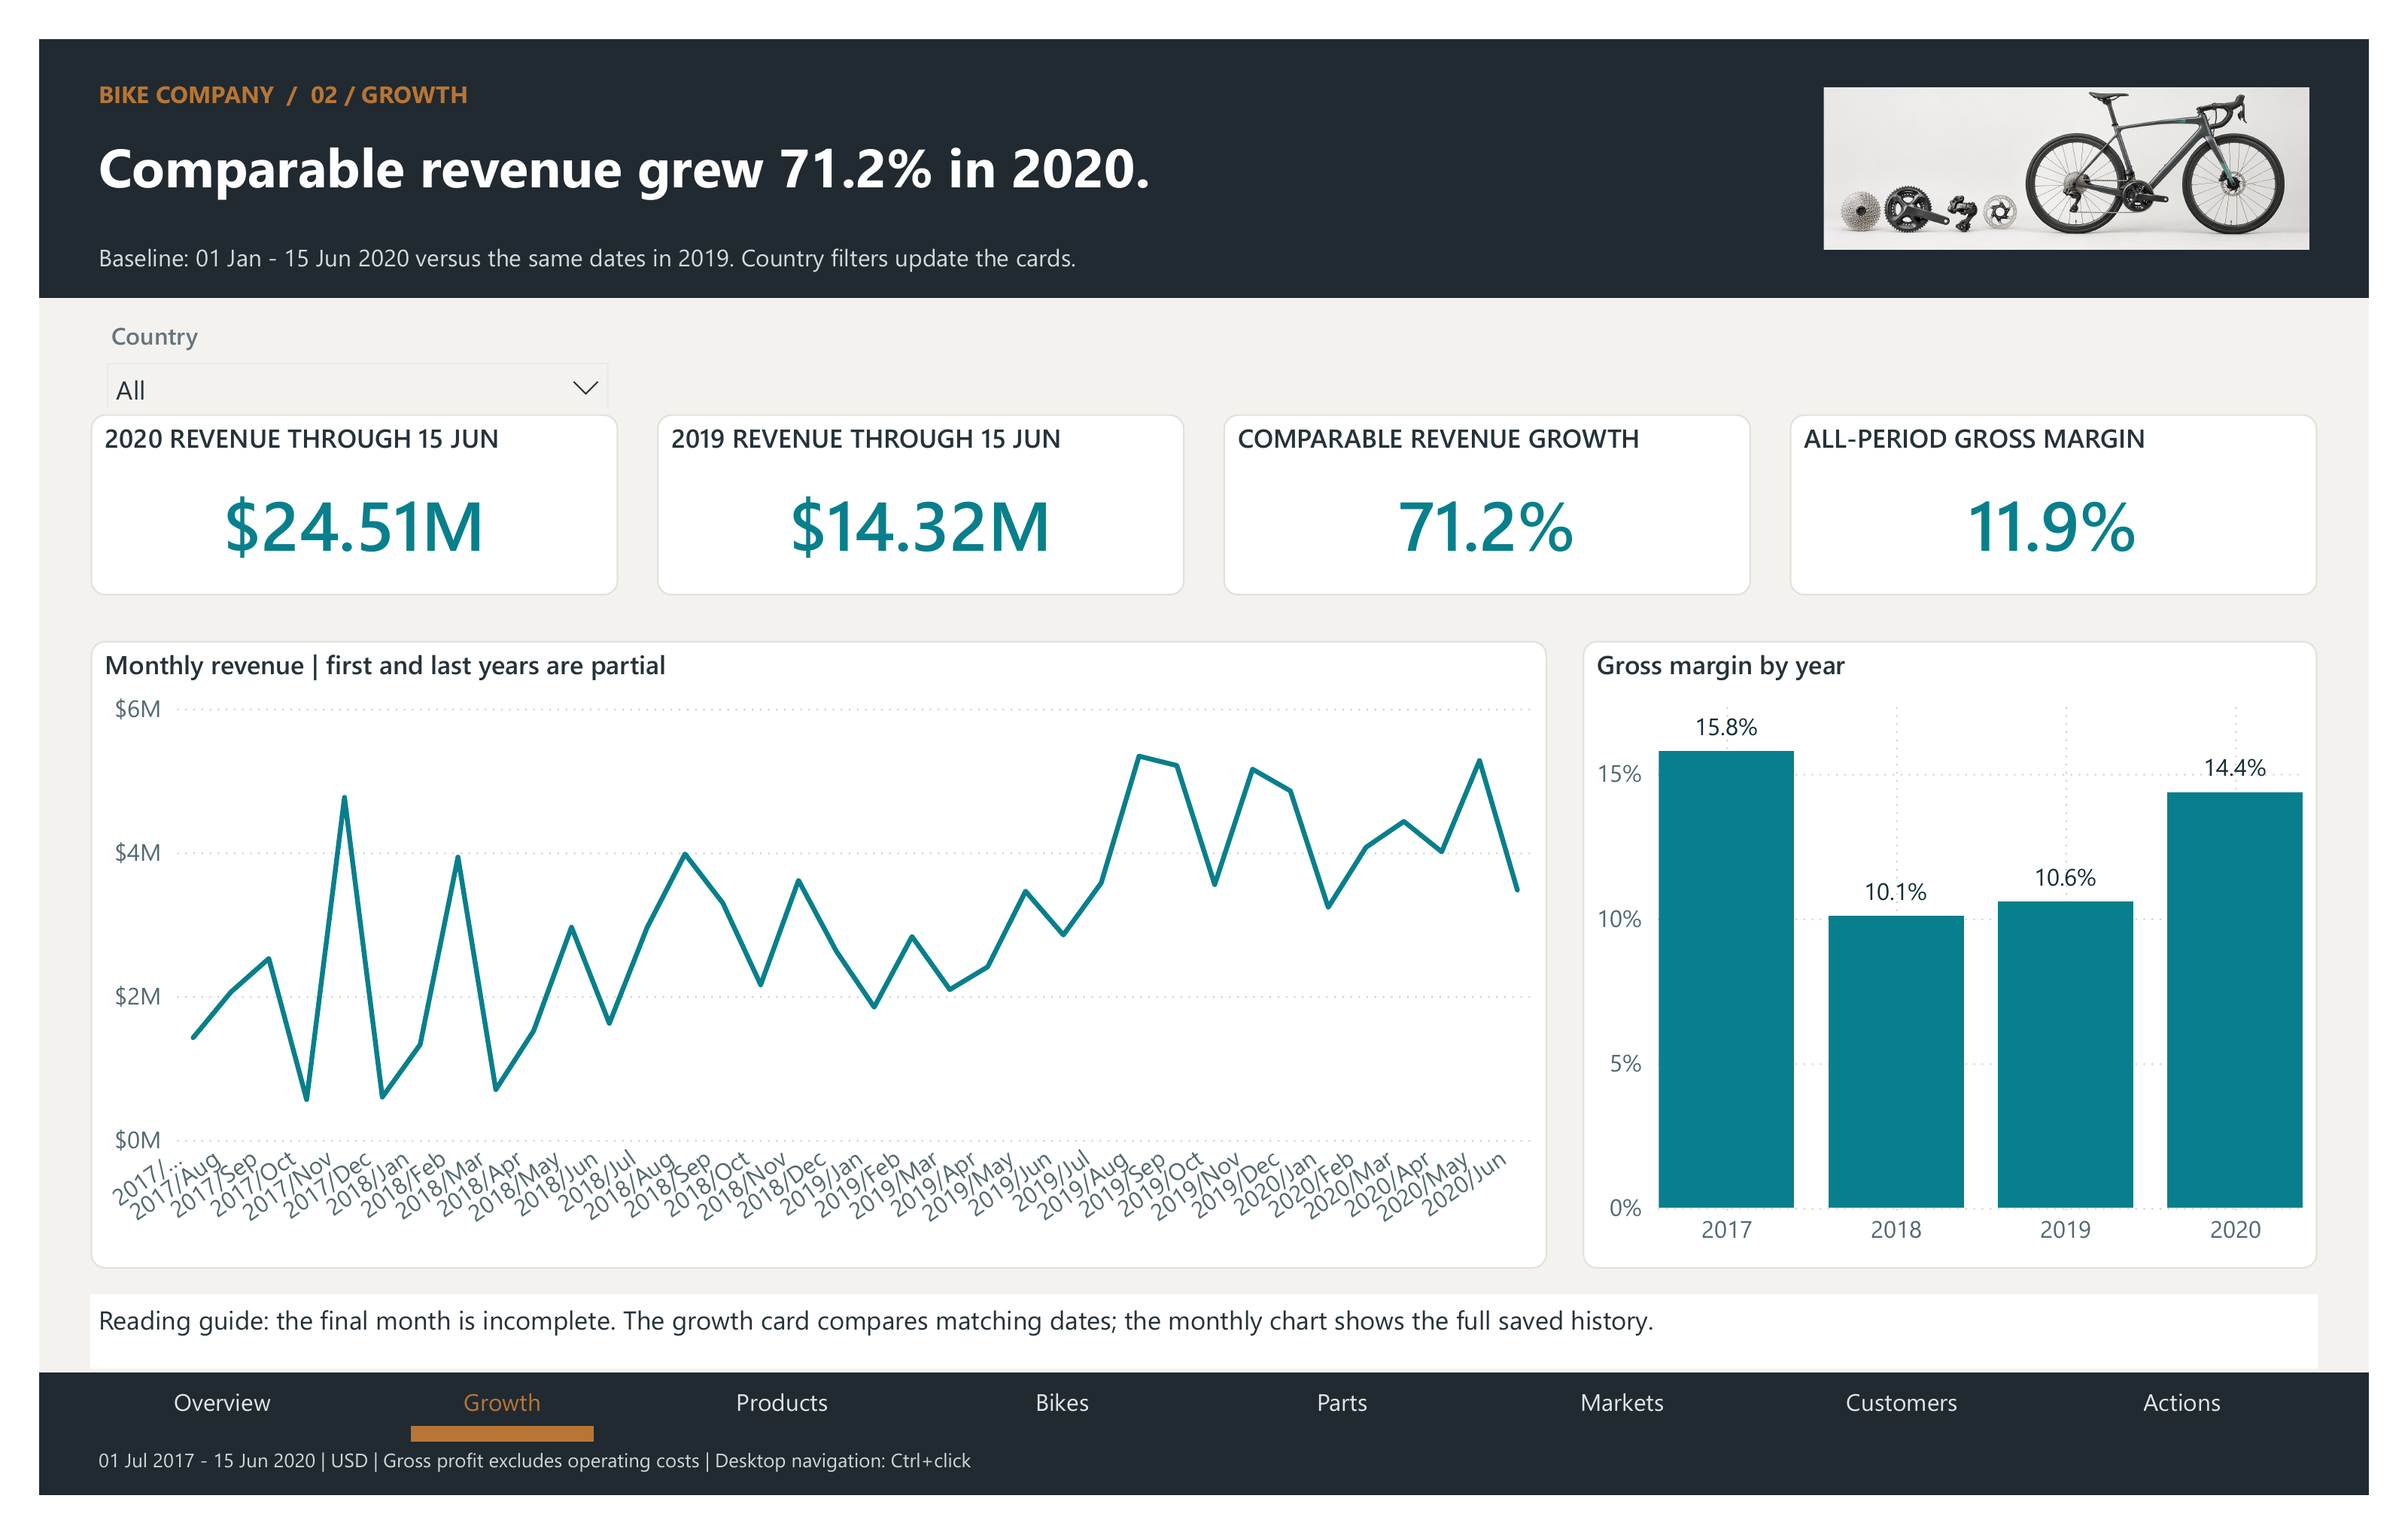

This screenshot's page, from the dashboard's own definition file:
{"tool":"powerbi","page":{"name":"02 Growth","canvas":[1440,900],"ordinal":2},"visuals":[{"type":"actionButton","box":[32,827,163,30]},{"type":"actionButton","box":[205,827,163,30]},{"type":"actionButton","box":[378,827,163,30]},{"type":"actionButton","box":[551,827,163,30]},{"type":"actionButton","box":[724,827,163,30]},{"type":"actionButton","box":[897,827,163,30]},{"type":"actionButton","box":[1070,827,163,30]},{"type":"actionButton","box":[1243,827,163,30]},{"type":"textbox","box":[403,857,113,3]},{"type":"textbox","box":[0,0,1440,160],"z":1},{"type":"textbox","box":[0,824,1440,76],"z":1},{"type":"image","box":[1098,14,310,132],"z":2},{"type":"textbox","box":[32,18,850,34],"z":15000},{"type":"textbox","box":[32,51,1040,64],"z":16000},{"type":"textbox","box":[32,119,1040,40],"z":17000},{"type":"textbox","box":[32,861,1376,39],"z":18000},{"type":"slicer","fields":{"Values":["Sales Territory.Country"]},"box":[32,168,330,60],"z":20000},{"type":"card","title":"2020 REVENUE THROUGH 15 JUN","fields":{"Values":["Measure.Latest YTD Revenue"]},"box":[32,232,326,112],"z":21000},{"type":"card","title":"2019 REVENUE THROUGH 15 JUN","fields":{"Values":["Measure.Prior Comparable Revenue"]},"box":[382,232,326,112],"z":22000},{"type":"card","title":"COMPARABLE REVENUE GROWTH","fields":{"Values":["Measure.Comparable Revenue Growth"]},"box":[732,232,326,112],"z":23000},{"type":"card","title":"ALL-PERIOD GROSS MARGIN","fields":{"Values":["Measure.Profit Margin"]},"box":[1082,232,326,112],"z":24000},{"type":"lineChart","title":"Monthly revenue | first and last years are partial","fields":{"Category":["Order Date.Month Start"],"Y":["Measure.Revenue"]},"box":[32,372,900,388],"z":25000},{"type":"clusteredColumnChart","title":"Gross margin by year","fields":{"Category":["Order Date.Year"],"Y":["Measure.Profit Margin"]},"box":[954,372,454,388],"z":26000},{"type":"textbox","box":[32,776,1376,46],"z":27000}]}

Visuals, with their boxes in screenshot pixels (x1, y1, x2, y2), scaled from the page's 1440x900 canvas onto the 2408x1535 screenshot:
actionButton: 53 1411 326 1462
actionButton: 343 1411 616 1462
actionButton: 632 1411 905 1462
actionButton: 921 1411 1194 1462
actionButton: 1211 1411 1483 1462
actionButton: 1500 1411 1773 1462
actionButton: 1789 1411 2062 1462
actionButton: 2078 1411 2351 1462
textbox: 674 1462 863 1467
textbox: 0 0 2407 273
textbox: 0 1406 2407 1534
image: 1836 24 2355 249
textbox: 53 31 1475 89
textbox: 53 87 1792 196
textbox: 53 203 1792 271
textbox: 53 1469 2355 1534
slicer - Sales Territory.Country: 53 287 605 389
"2020 REVENUE THROUGH 15 JUN" card: 53 396 599 587
"2019 REVENUE THROUGH 15 JUN" card: 639 396 1184 587
"COMPARABLE REVENUE GROWTH" card: 1224 396 1769 587
"ALL-PERIOD GROSS MARGIN" card: 1809 396 2355 587
"Monthly revenue | first and last years are partial" lineChart: 53 634 1558 1296
"Gross margin by year" clusteredColumnChart: 1595 634 2355 1296
textbox: 53 1324 2355 1402
